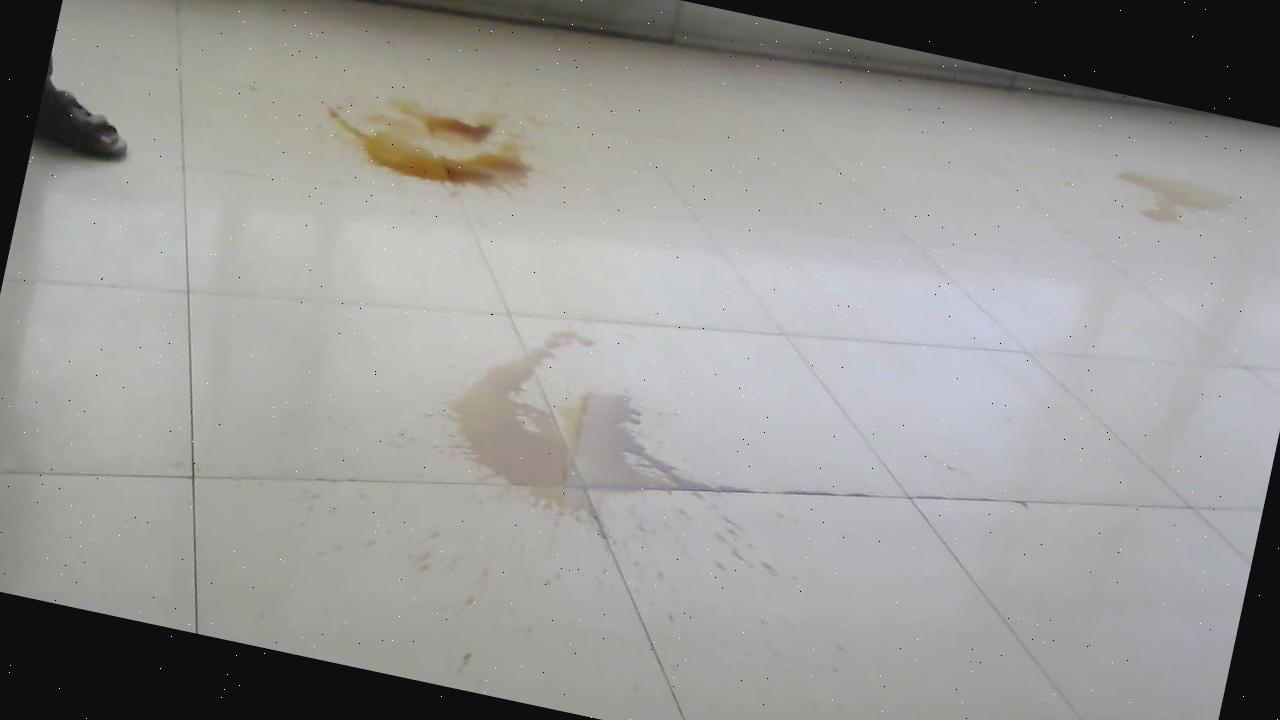dirty_floor: (406, 301, 714, 548), (298, 51, 555, 216)
